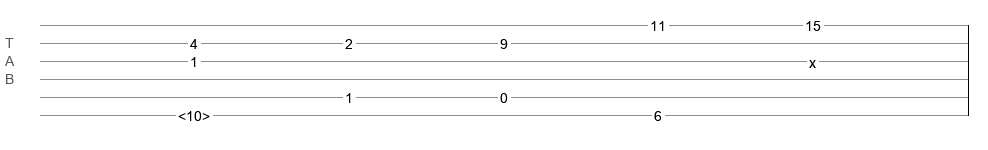0: (500, 90, 508, 100)
1: (190, 54, 198, 64), (345, 90, 353, 100)
11: (650, 18, 666, 28)
15: (805, 18, 821, 28)
2: (345, 36, 353, 46)
4: (190, 36, 198, 46)
6: (654, 108, 662, 118)
9: (500, 36, 508, 46)
harmonic: (178, 108, 210, 118)
x: (809, 55, 816, 63)
